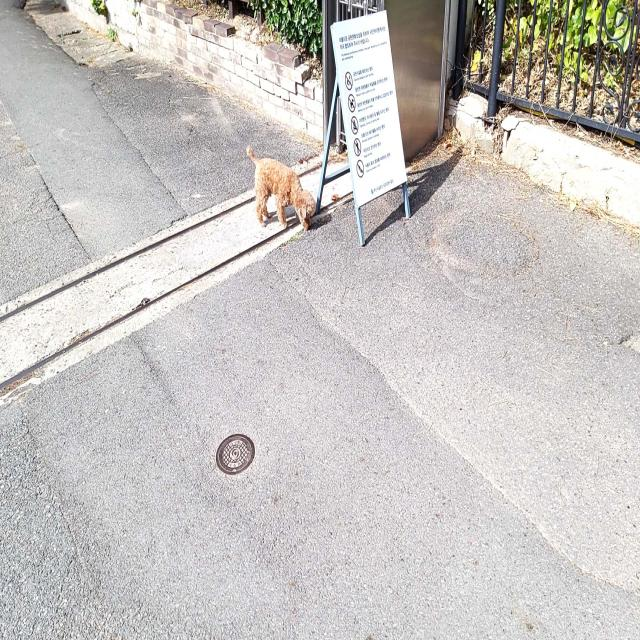Dog: (246, 144, 316, 228)
